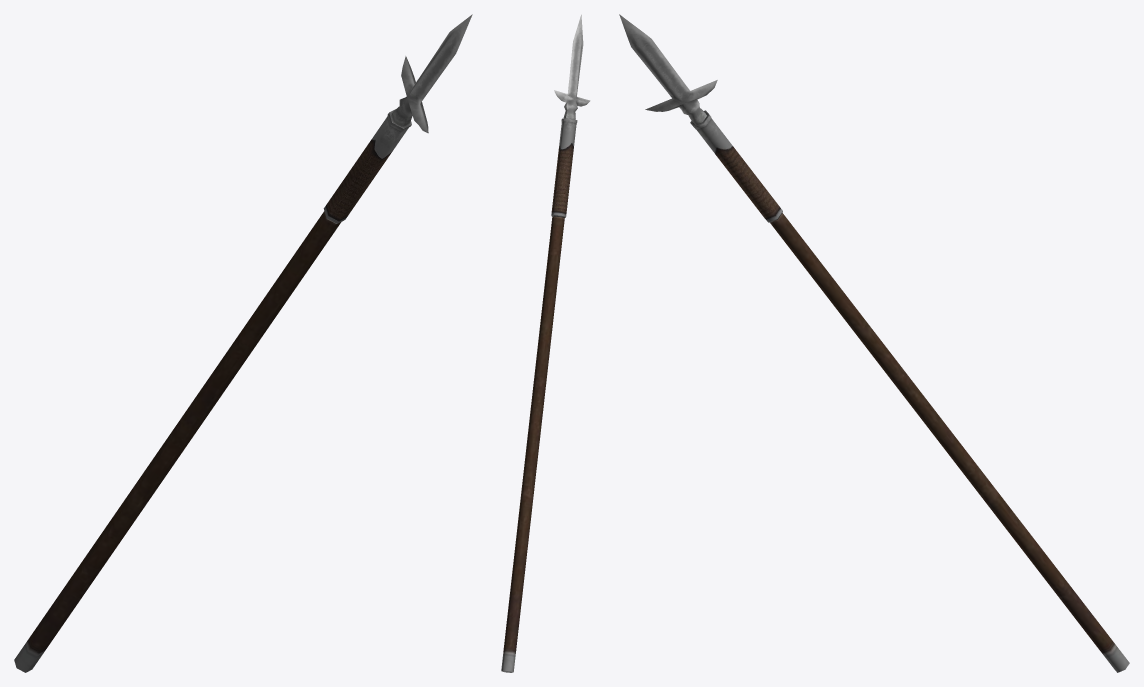
Rendered from weapon-base.glb.
The picture shows the model from 3 angles, left to right: view 1: azimuth 30°, elevation 25°; view 2: azimuth 150°, elevation 25°; view 3: azimuth 270°, elevation 25°; orthographic projection. The views are drawn at different scales.
Size of the model in its own units: 0.4415 by 2.01 by 1.28.
Materials: 1 (1 with a texture image).
